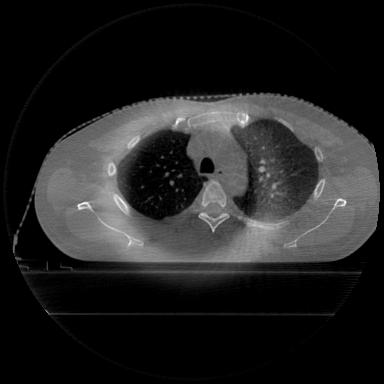body: (35, 94, 380, 262)
cord: (198, 180, 230, 233)
paru kanan: (117, 129, 202, 219)
paru kiri: (231, 119, 319, 220)
